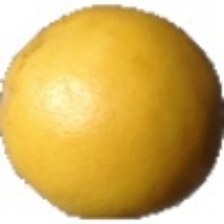grapes: (47, 13, 212, 191)
